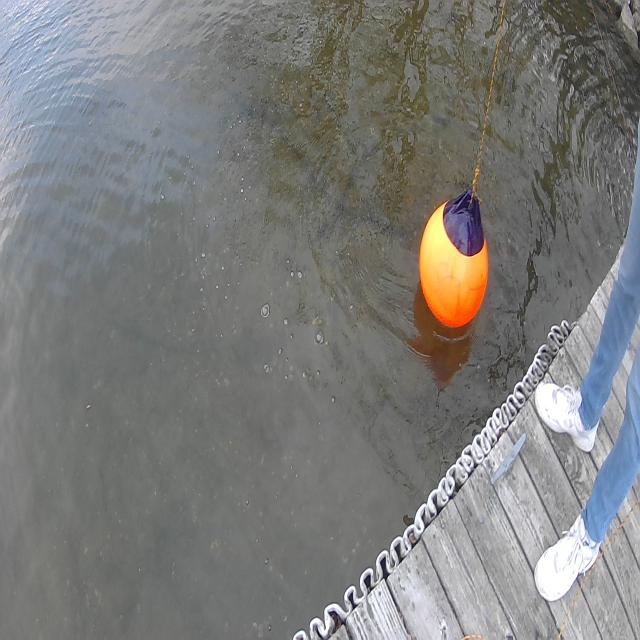Buoy: (416, 195, 494, 342)
